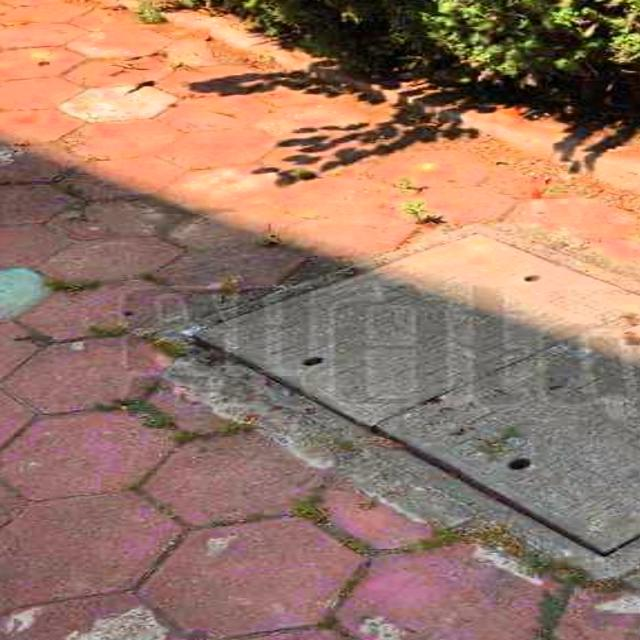good: (153, 224, 640, 584)
